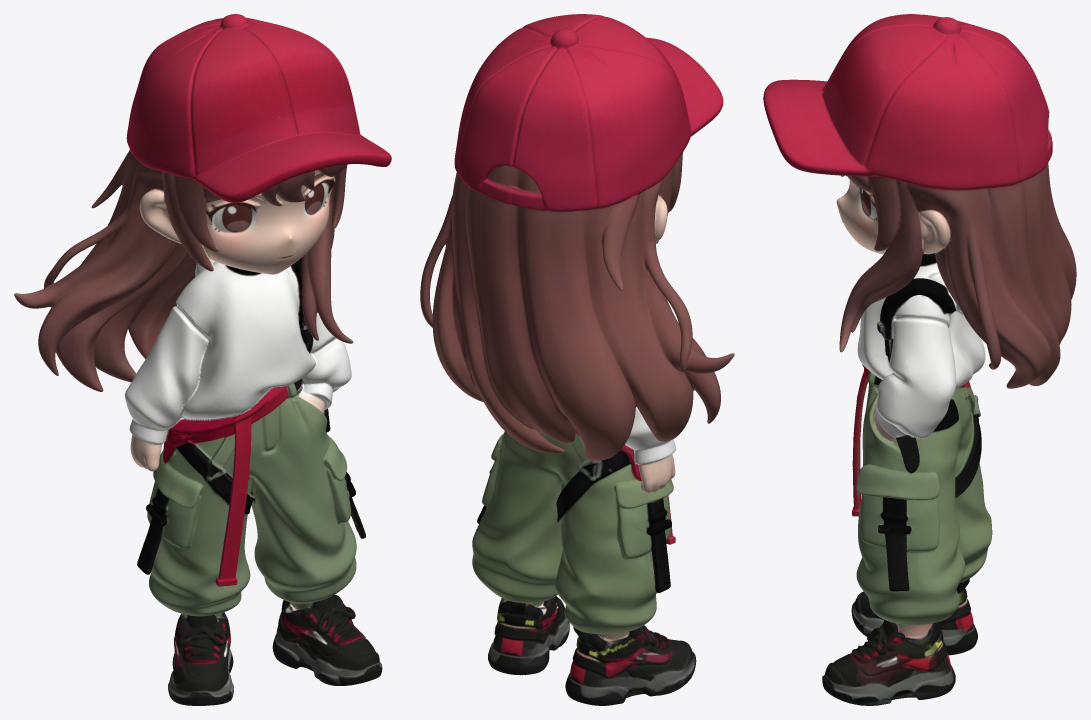
The model's file is mika-meshy.glb.
3 views of the same model, side by side, from view 1: azimuth 30°, elevation 25°; view 2: azimuth 150°, elevation 25°; view 3: azimuth 270°, elevation 25° (orthographic). The views are drawn at different scales.
Parts seen in each view (by area): view 1: Mesh_0; view 2: Mesh_0; view 3: Mesh_0.
Part boxes in pixels (box(x1,y1,x2,y2)): Mesh_0: box(14, 14, 391, 705); Mesh_0: box(420, 14, 734, 705); Mesh_0: box(763, 14, 1076, 705).
Bounding box in the file's own units: 0.962 × 1.9 × 0.8388.
Materials: 1 (1 with a texture image).
